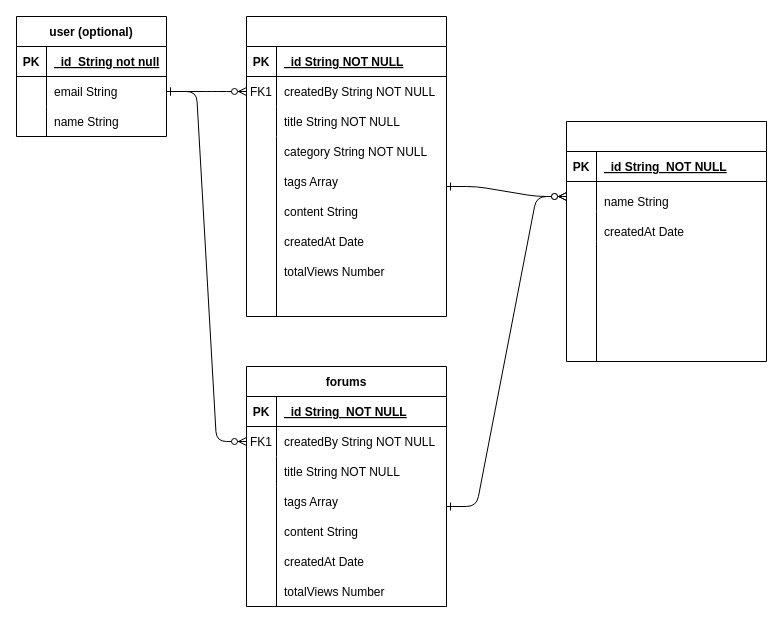
Image size: 783x623. Some labels were removed from this diagram. The shapes that lost their labels are listed below. From the top down, each one's box as (x1, y1, x2, y2) in pixels, then its label:
(246, 16, 446, 316): posts
(566, 120, 766, 362): tags
